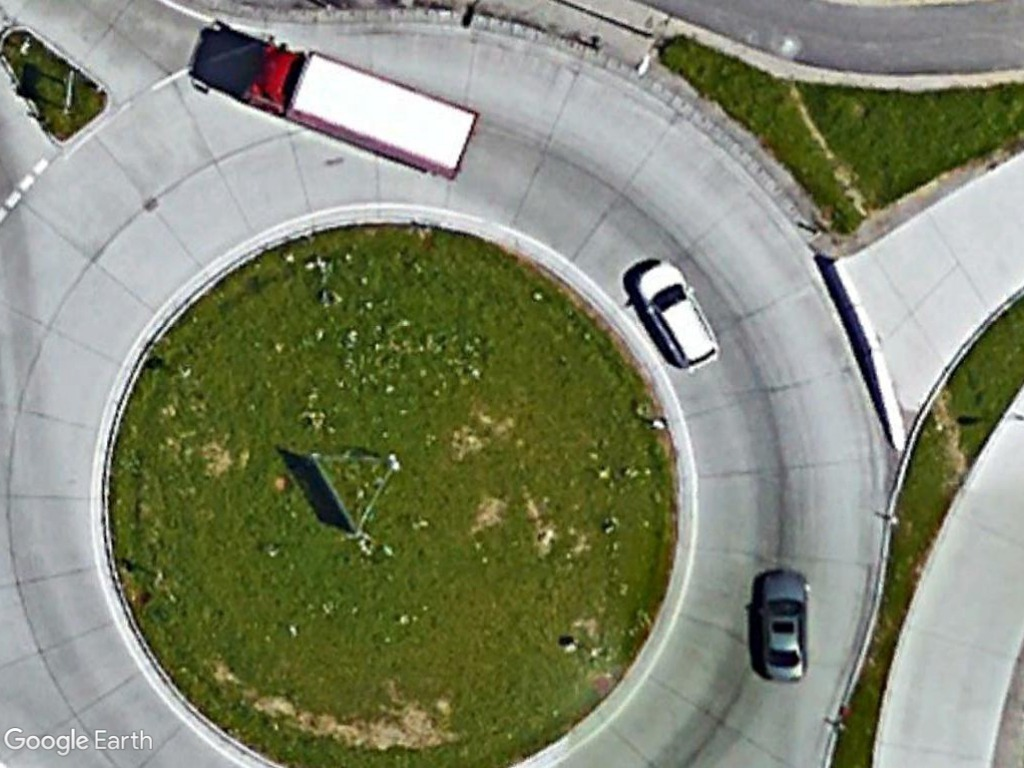car: (623, 258, 726, 376), (755, 563, 813, 686)
truck: (243, 35, 483, 182)
